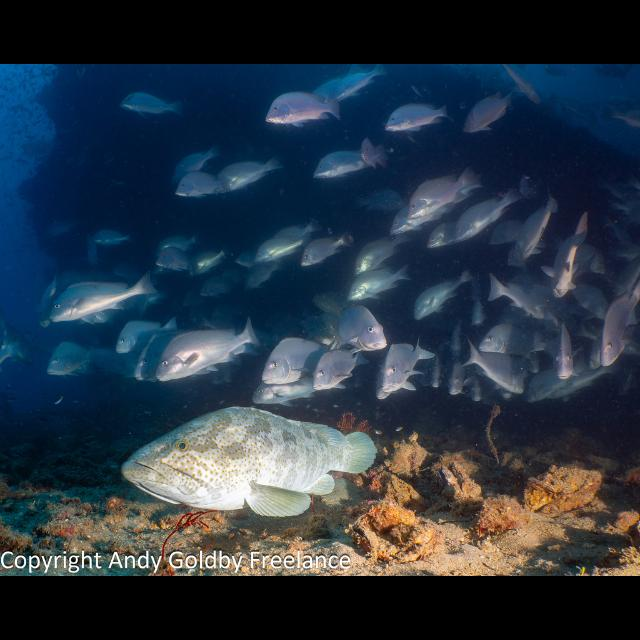Groupers: (115, 405, 378, 517)
